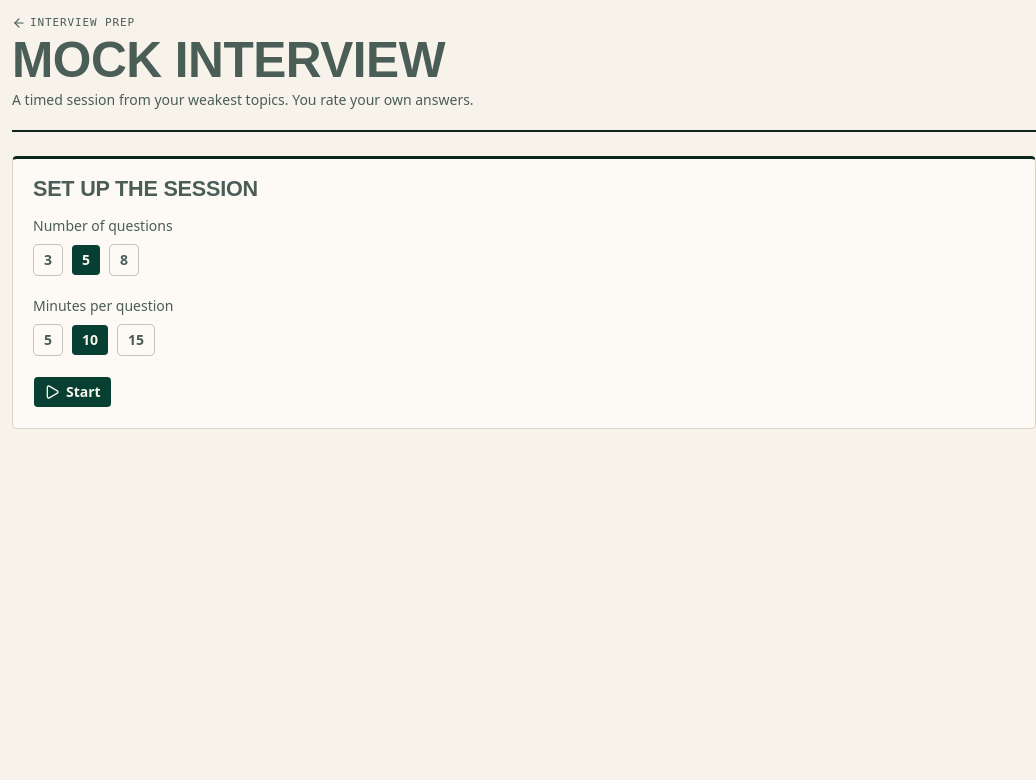
Test: MockInterviewPage › posts the attempt for a rating and moves to the next question
The image size is (1036, 780).
Click the button "3".
click(48, 260)  # box [33,244,63,276]
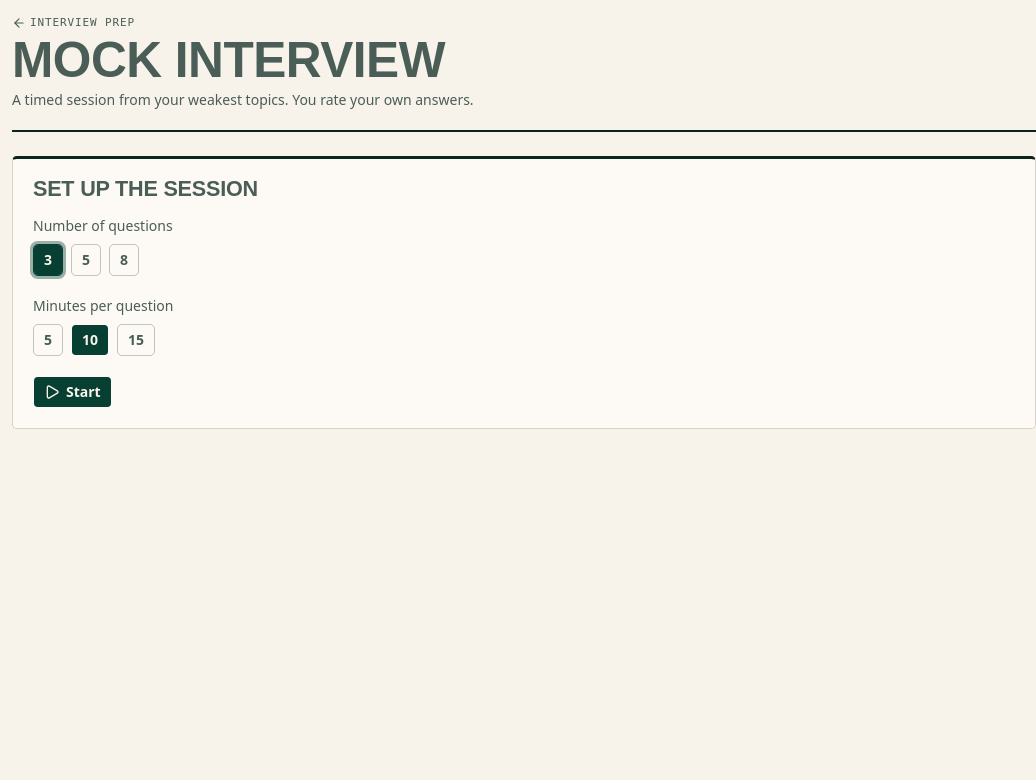
Click the button "Start".
click(72, 392)  # box [33,376,112,408]
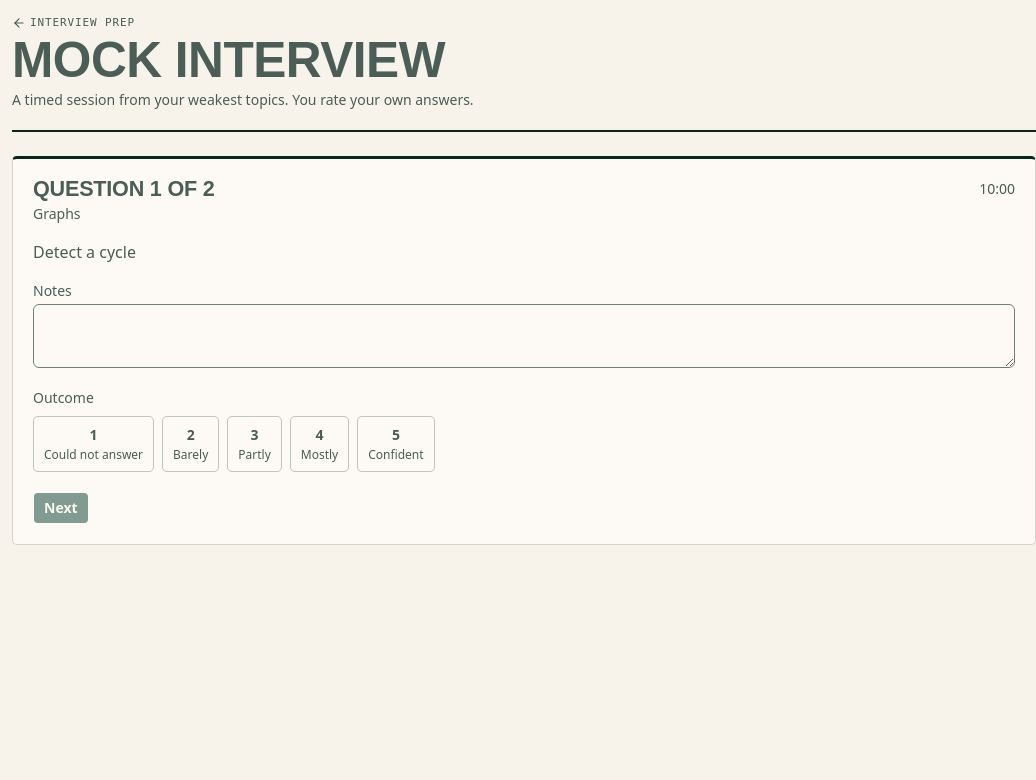
Check: the text "Detect a cycle" is shown, box [33,241,136,263]
Type "Used a visited set" into the text box labelled "Notes".
click(524, 336); type("Used a visited set")  # box [33,304,1015,368]
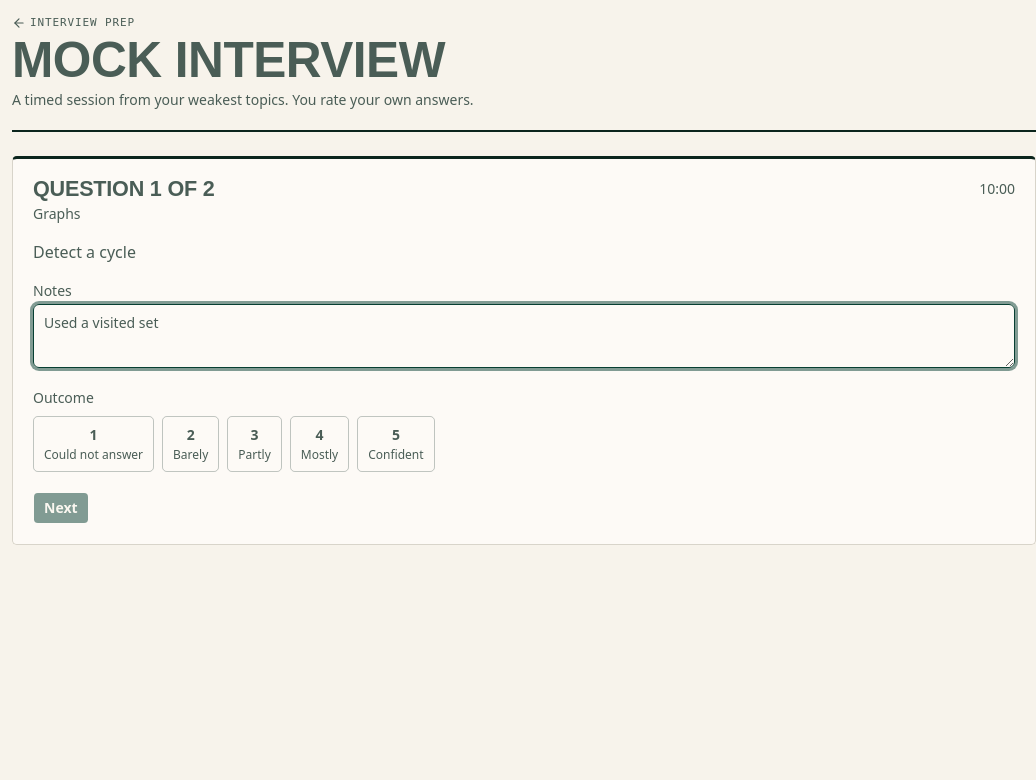
Click the button "2 Barely".
click(191, 444)  # box [162,416,219,472]
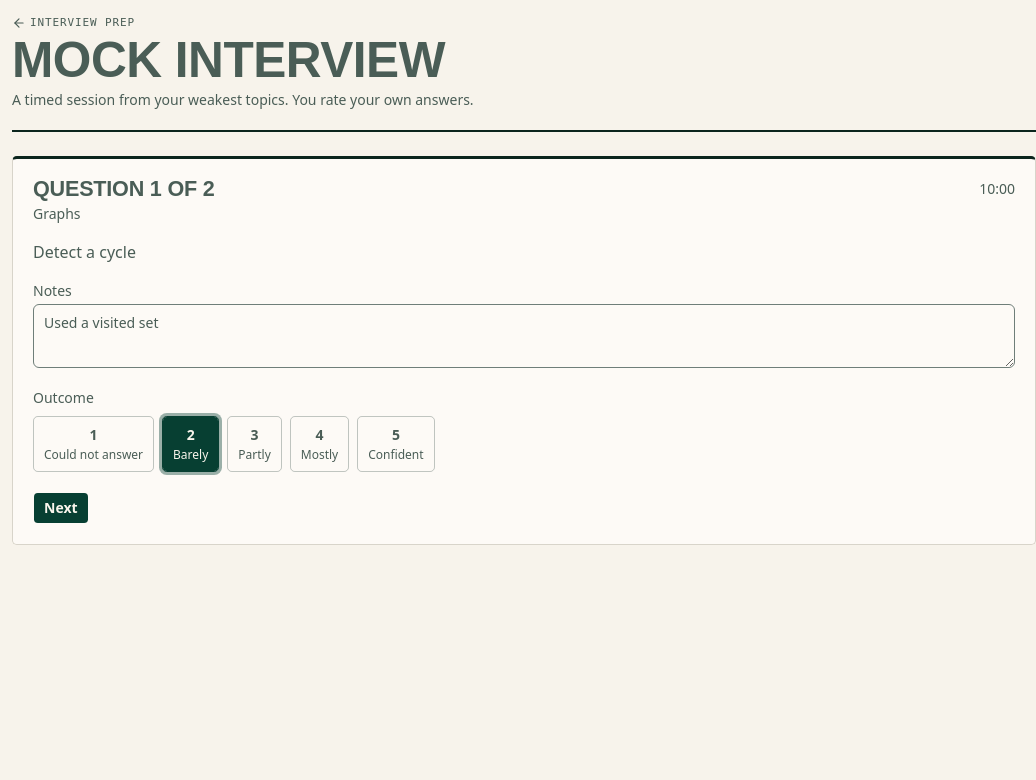
Click the button "Next".
click(61, 508)  # box [33,492,88,524]
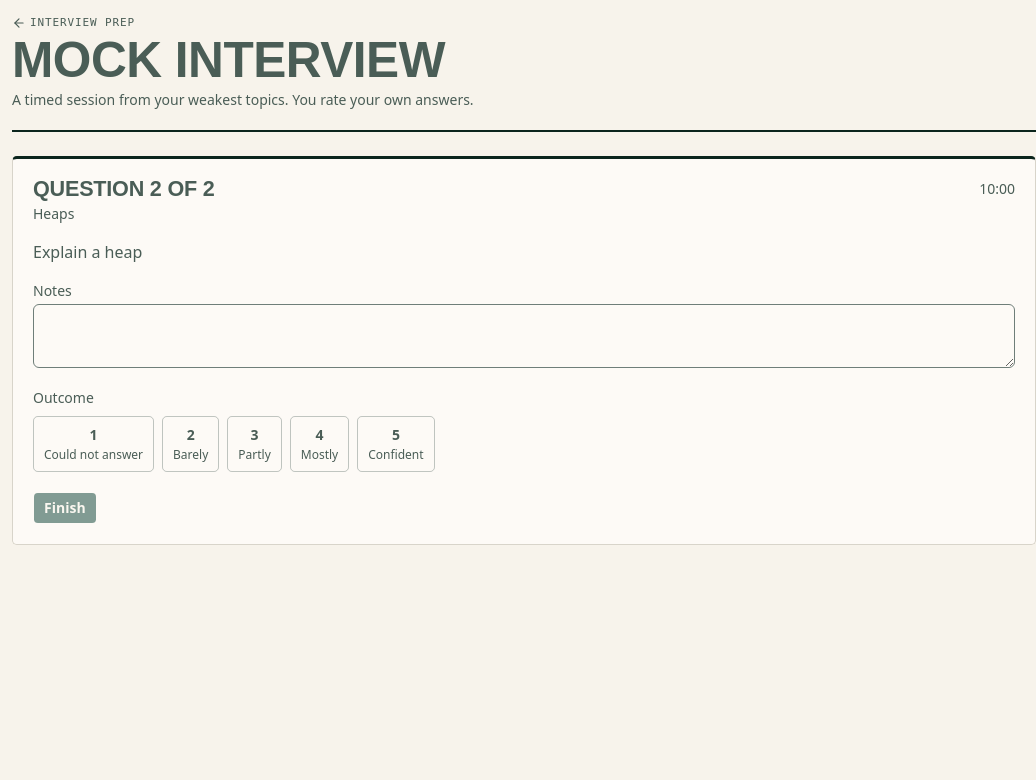
Check: the text "Explain a heap" is shown, box [33,241,142,263]
